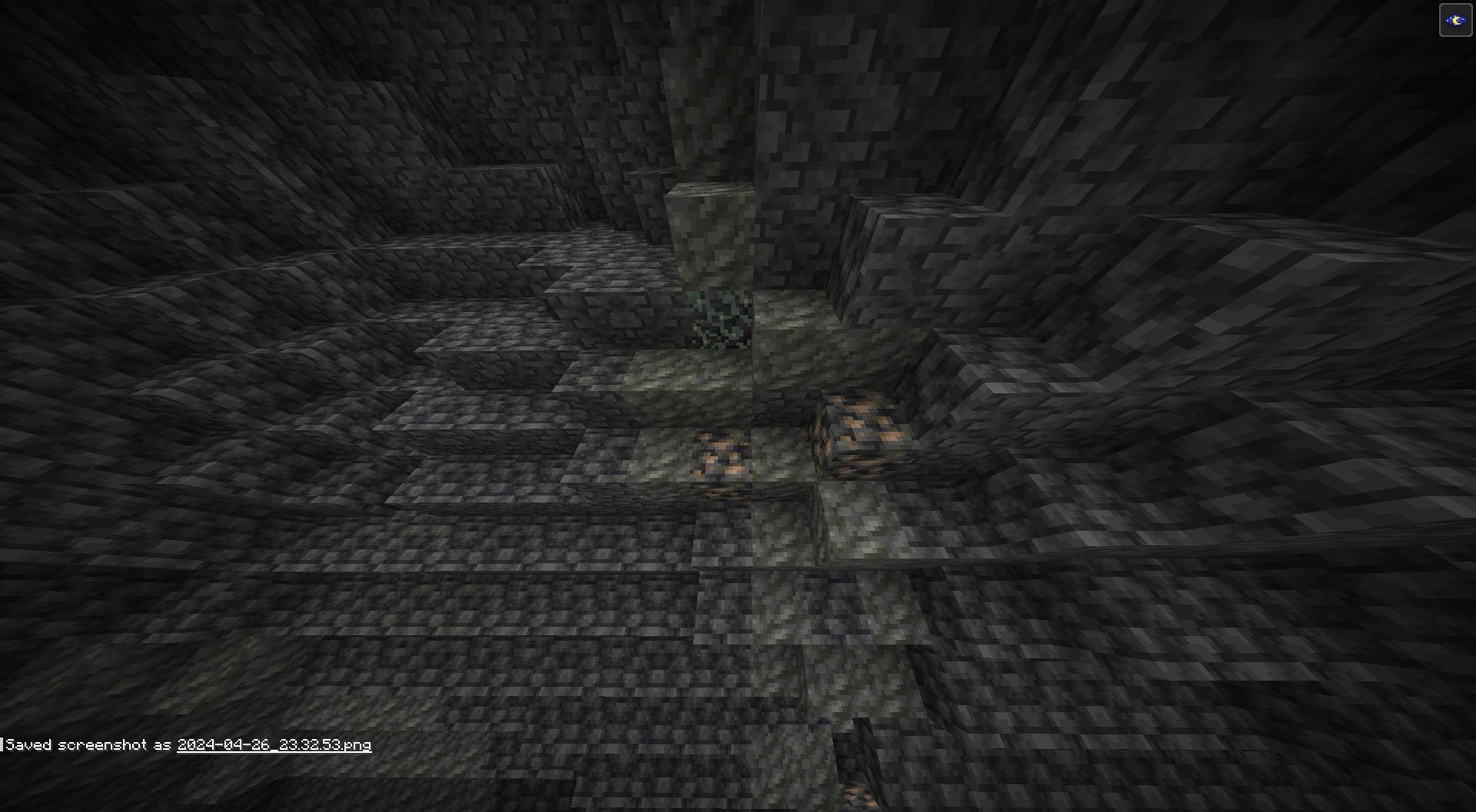iron ore: (827, 388, 908, 449), (692, 425, 753, 477), (837, 448, 903, 485), (808, 406, 835, 472), (694, 480, 751, 505), (835, 779, 874, 809)
